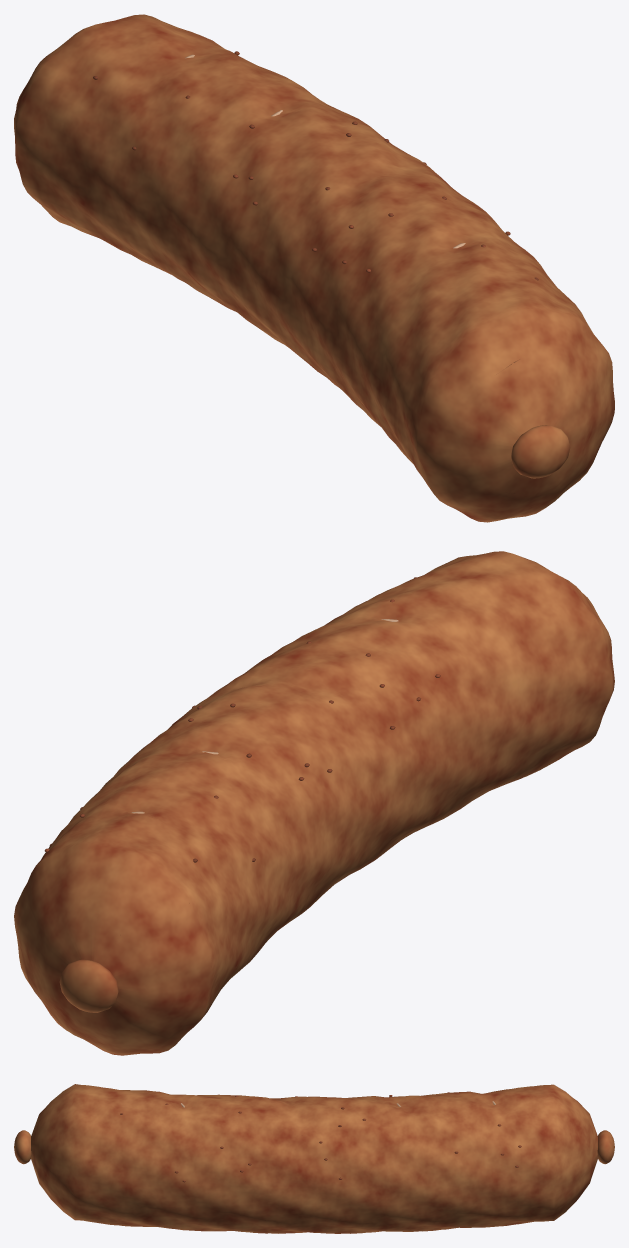
Rendered from sausage.glb.
The picture shows the model from 3 angles, top to bottom: view 1: azimuth 30°, elevation 25°; view 2: azimuth 150°, elevation 25°; view 3: azimuth 270°, elevation 25°; orthographic projection. The views are drawn at different scales.
Visible parts, largest first — view 1: sausage.002; view 2: sausage.002; view 3: sausage.002.
Part boxes in pixels (x1,y1,x2,y2): sausage.002: (14,14,614,522); sausage.002: (14,551,614,1055); sausage.002: (14,1084,614,1233).
Bounding box in the file's own units: 0.0505 × 0.0417 × 0.182.
Materials: 1 (1 with a texture image).
